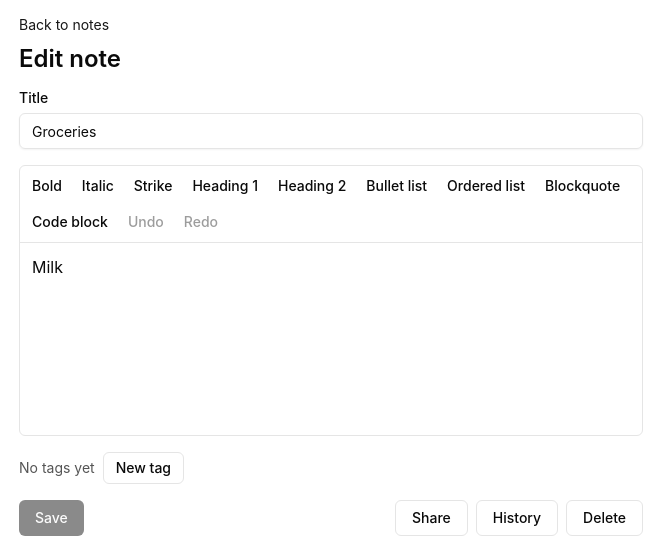
Test case: NoteEditorPage editing › Save refreshes the list
Expected: the field named "Note content" is shown, [32, 257, 63, 277]
Type "!" into the field labelled "Title" at (331, 131), box [19, 113, 643, 149]
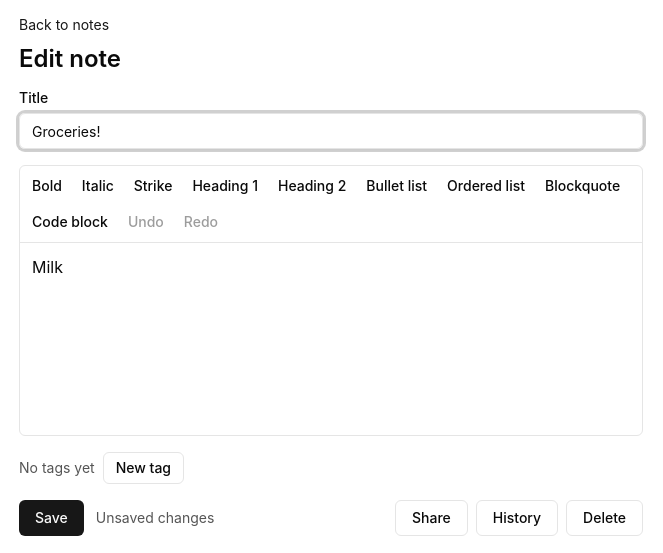
Click the button "Save" at (51, 518), box [19, 500, 84, 536]
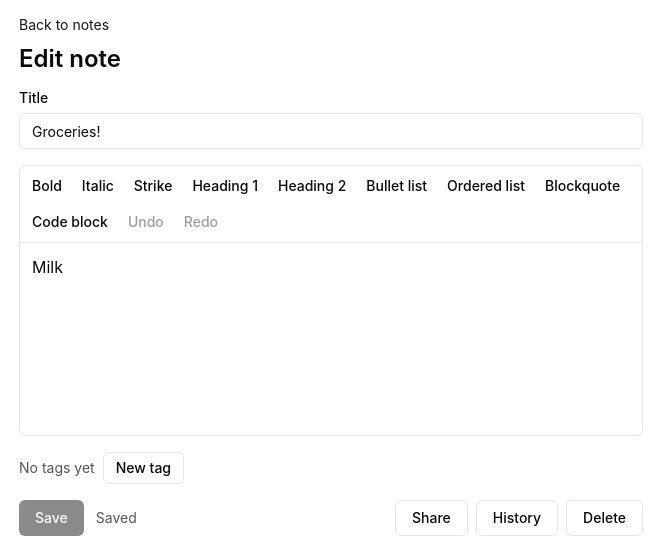
Expected: the text "Saved" is shown, [96, 508, 137, 528]
Click the link "Back to notes" at (64, 24), box [19, 16, 109, 33]
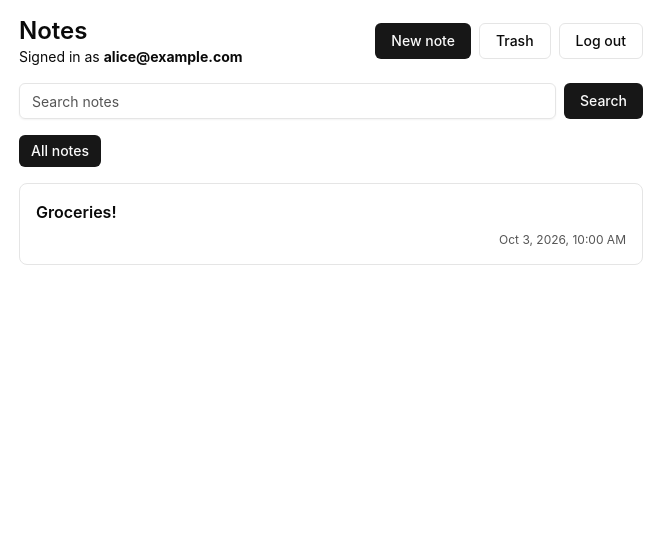
Expected: the heading "Groceries!" is shown, [36, 202, 116, 222]
